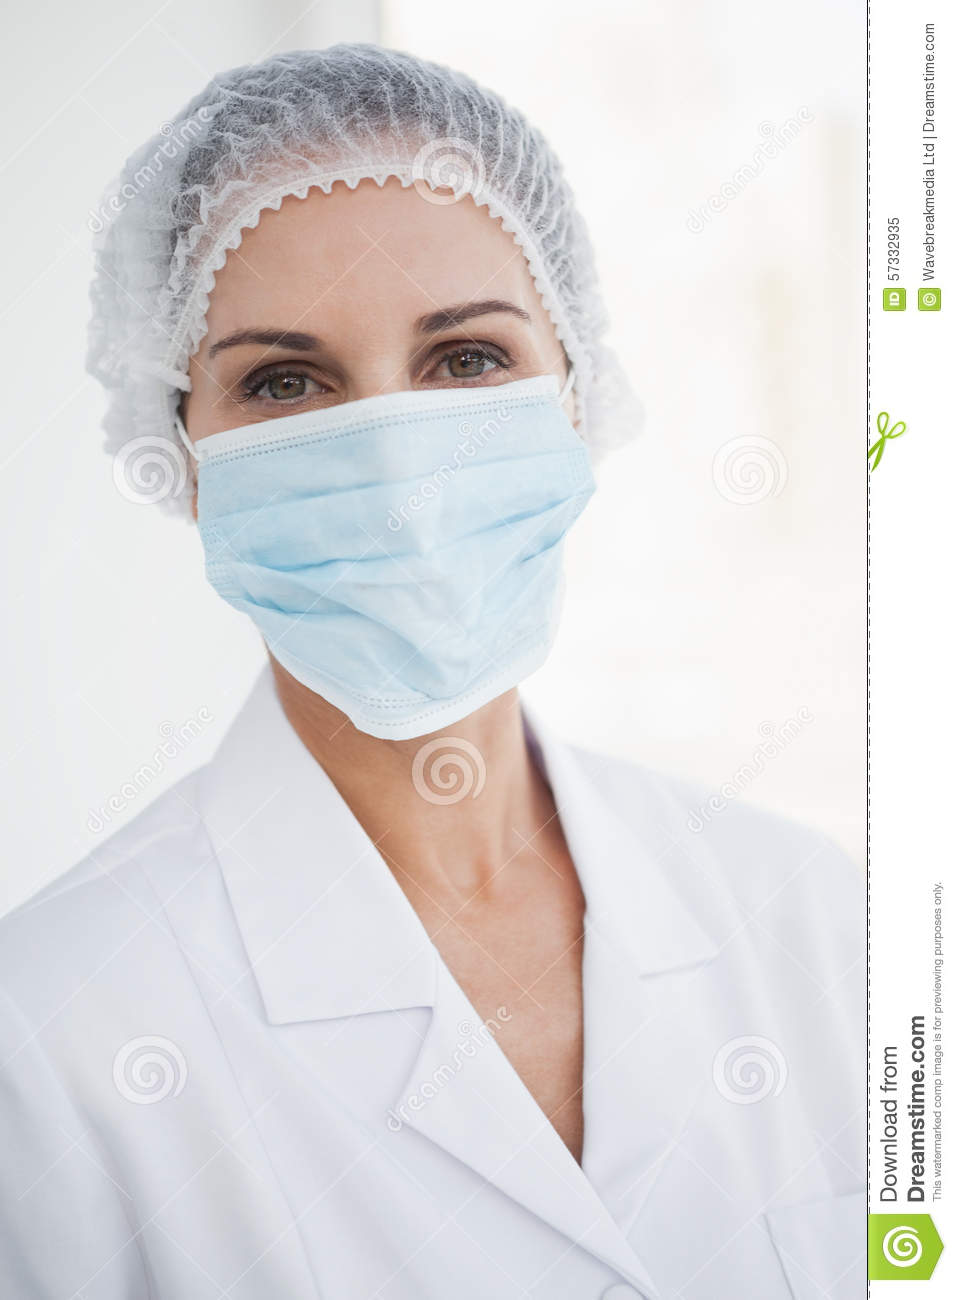mask: (176, 393, 640, 743)
